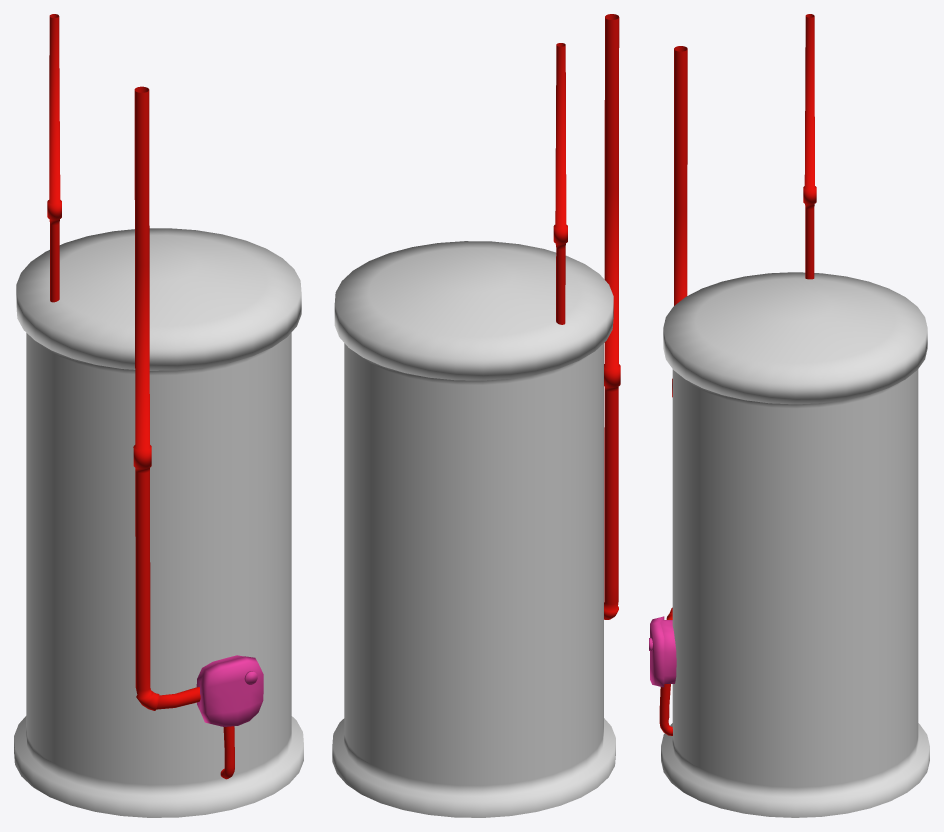
The model's file is Boiler.fbx.
3 renders of one model, left to right at view 1: azimuth 30°, elevation 25°; view 2: azimuth 150°, elevation 25°; view 3: azimuth 270°, elevation 25°, orthographic. The views are drawn at different scales.
Visible parts, largest first — view 1: Cylinder.004; view 2: Cylinder.004; view 3: Cylinder.004.
Boxes of the visible parts, <box> form: Cylinder.004: <box>14,14,303,817</box>; Cylinder.004: <box>332,14,620,817</box>; Cylinder.004: <box>649,14,929,817</box>.
Bounding box in the file's own units: 626 × 1803 × 654.
